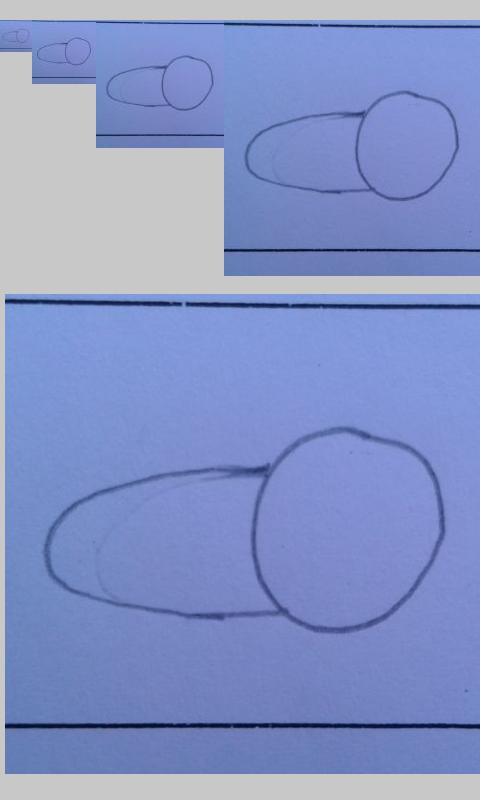switch: (43, 425, 447, 636), (243, 90, 460, 203), (105, 54, 214, 111), (36, 37, 92, 66), (1, 28, 31, 44)
